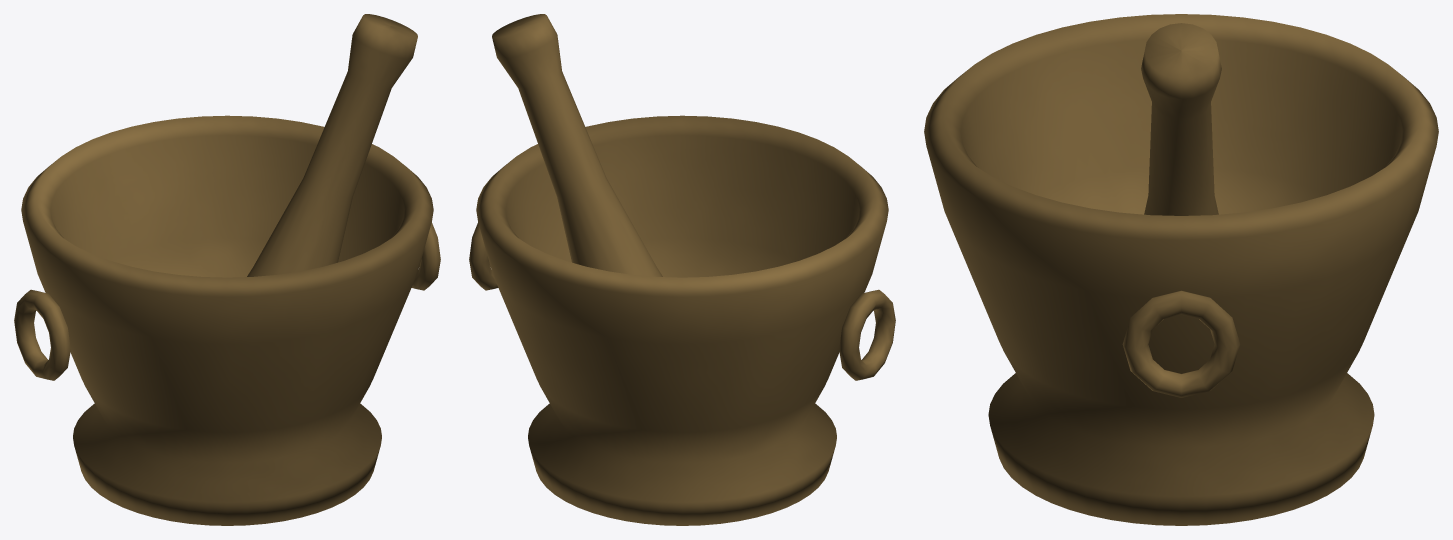
3 views of the same model, side by side, from view 1: azimuth 30°, elevation 25°; view 2: azimuth 150°, elevation 25°; view 3: azimuth 270°, elevation 25° (orthographic). The views are drawn at different scales.
Parts seen in each view (by area): view 1: cast bell bronze; view 2: cast bell bronze; view 3: cast bell bronze.
Part boxes in pixels (x1=…): cast bell bronze: x1=14, y1=14, x2=440, y2=525; cast bell bronze: x1=469, y1=14, x2=895, y2=525; cast bell bronze: x1=924, y1=14, x2=1438, y2=525.
Size of the model in its own units: 0.304 by 0.3063 by 0.28.
Materials: 2 (1 with a texture image).
